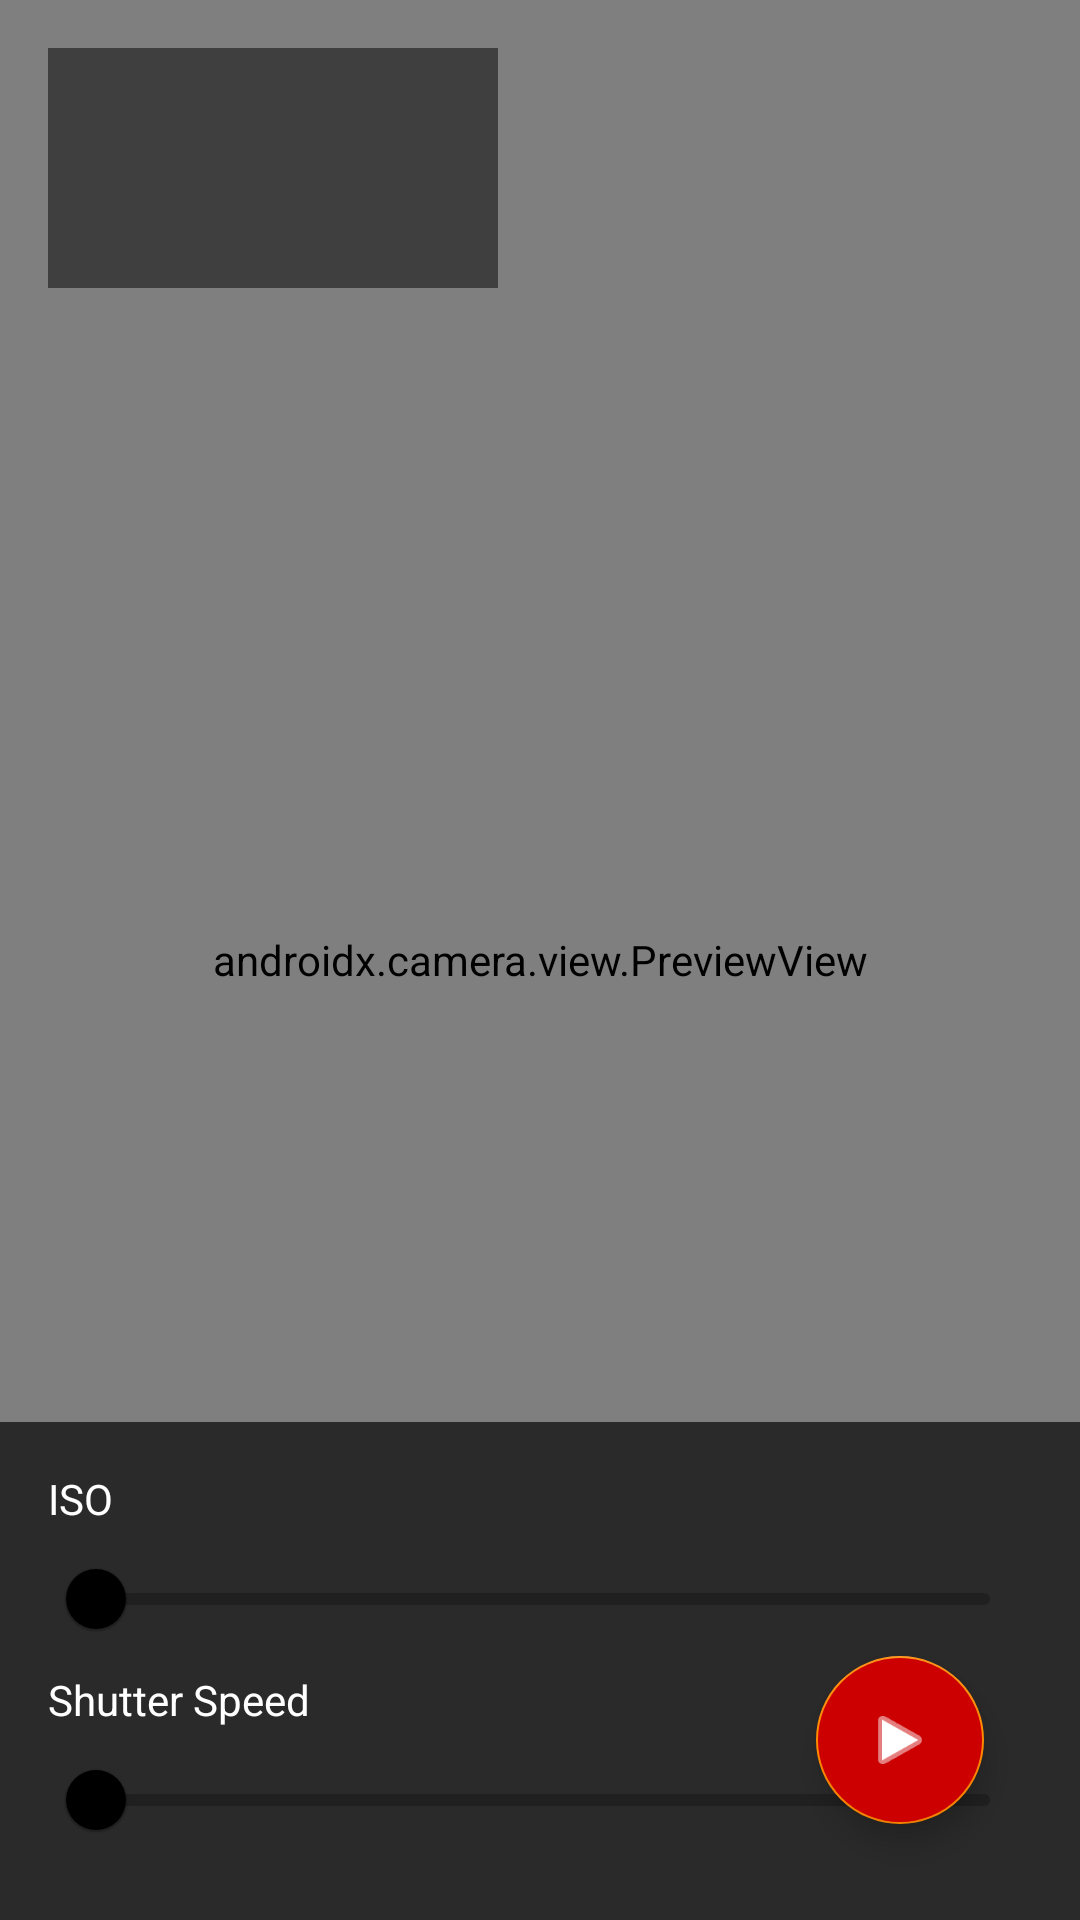

Where icons sit on this 1080×1920 app screen, as (x1, y1, x2, y2):
play: (816, 1656, 984, 1824)
